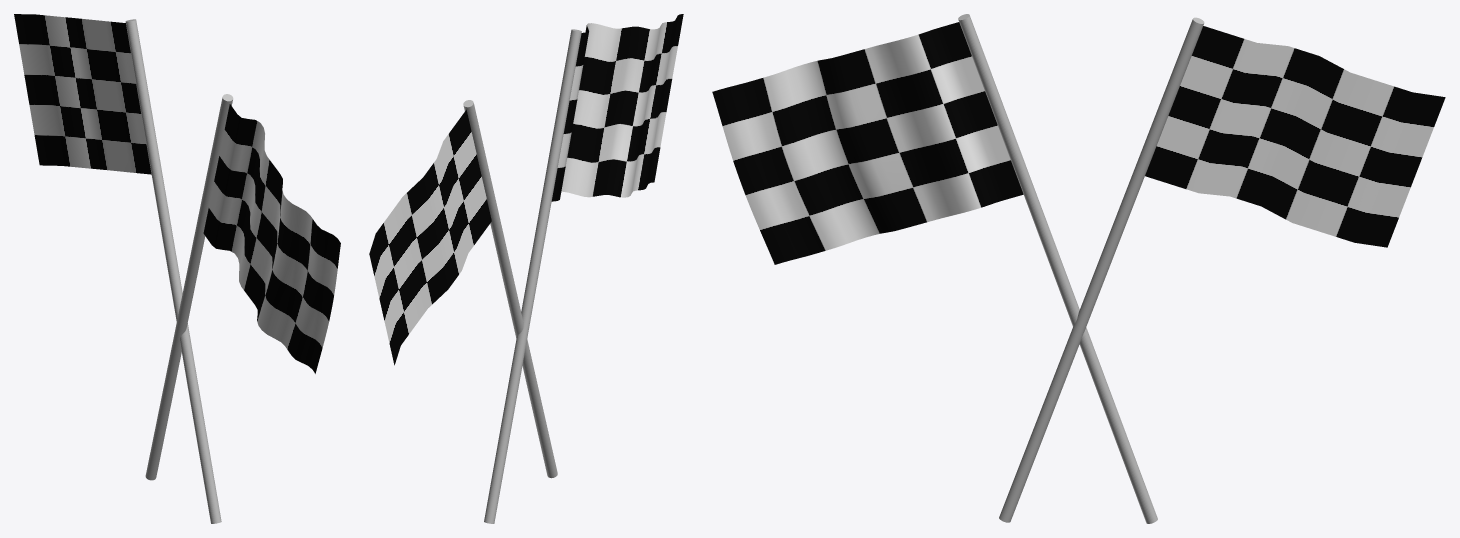
Rendered from goal3.fbx.
The picture shows the model from 3 angles, left to right: view 1: azimuth 30°, elevation 25°; view 2: azimuth 150°, elevation 25°; view 3: azimuth 270°, elevation 25°; orthographic projection. The views are drawn at different scales.
Visible parts, largest first — view 1: flags.001; view 2: flags.001; view 3: flags.001.
Boxes of the visible parts, box(x1,y1,x2,y2) form: flags.001: box(14, 14, 340, 523); flags.001: box(369, 14, 683, 523); flags.001: box(712, 14, 1445, 523).
Bounding box in the file's own units: 102 × 1806 × 2382.
2 materials, 1 textured.
